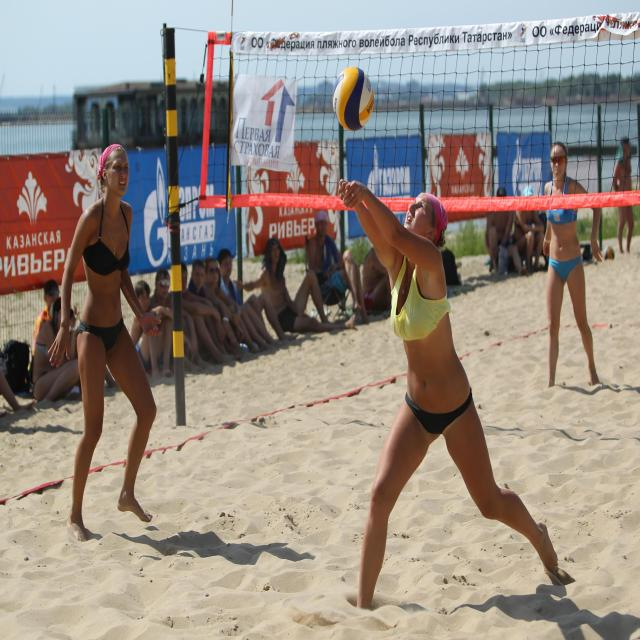body: (337, 177, 560, 611), (48, 142, 160, 544), (542, 140, 603, 389), (230, 235, 358, 335), (302, 209, 370, 327), (164, 258, 236, 368), (217, 248, 296, 347), (192, 257, 261, 359), (148, 266, 210, 374), (32, 296, 80, 403), (128, 279, 174, 379), (485, 187, 527, 276), (513, 184, 545, 276), (612, 136, 634, 254), (362, 245, 394, 316), (32, 278, 60, 358), (0, 357, 31, 419)
